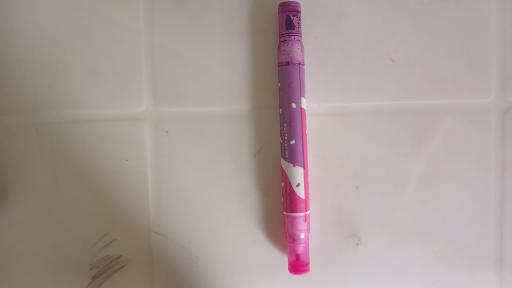Highlighter: (278, 2, 311, 277)
